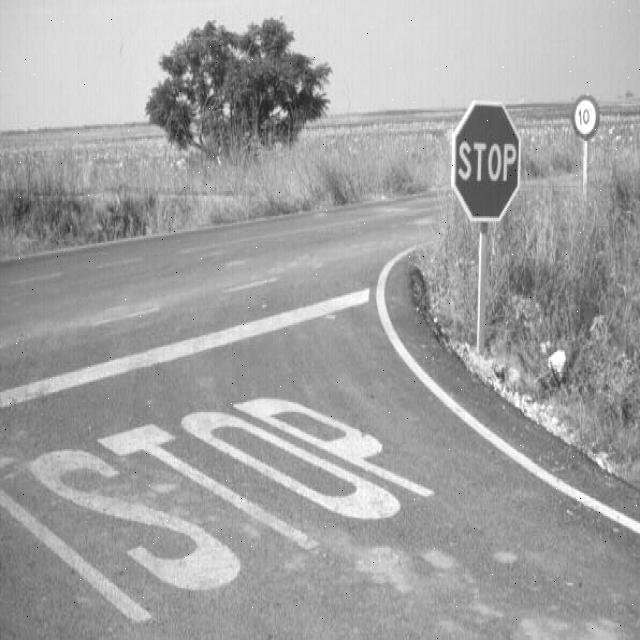stop: (448, 96, 522, 227)
